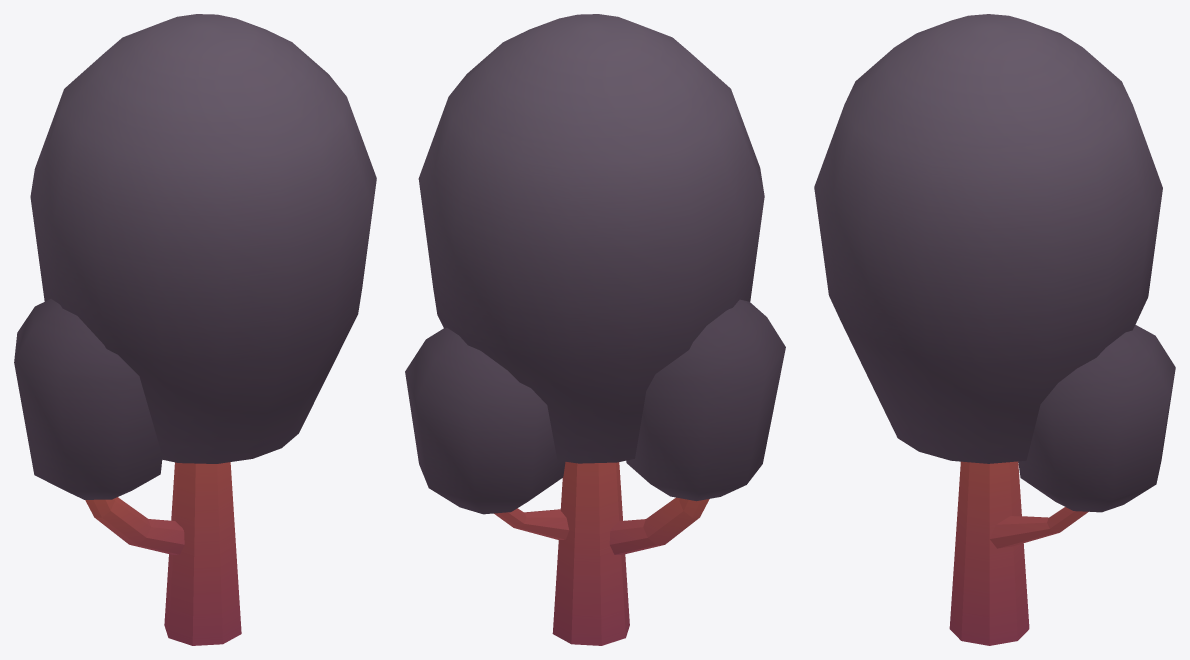
The model's file is Tree2_Dark.glb.
The picture shows the model from 3 angles, left to right: view 1: azimuth 30°, elevation 25°; view 2: azimuth 150°, elevation 25°; view 3: azimuth 270°, elevation 25°; orthographic projection.
Parts seen in each view (by area): view 1: Tree2_Dark; view 2: Tree2_Dark; view 3: Tree2_Dark.
Boxes of the visible parts, x1,y1,x2,y2 form: Tree2_Dark: (14,14,376,645); Tree2_Dark: (405,14,785,645); Tree2_Dark: (814,14,1175,645).
Bounding box in the file's own units: 2.76 × 4.77 × 2.6.
1 material, 1 textured.
